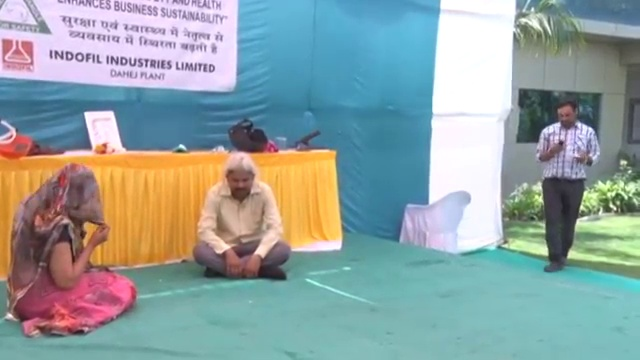helmet_off: (50, 166, 101, 217), (225, 152, 254, 199), (554, 100, 578, 130)
person: (4, 163, 140, 340), (188, 149, 291, 281), (535, 98, 601, 270)
